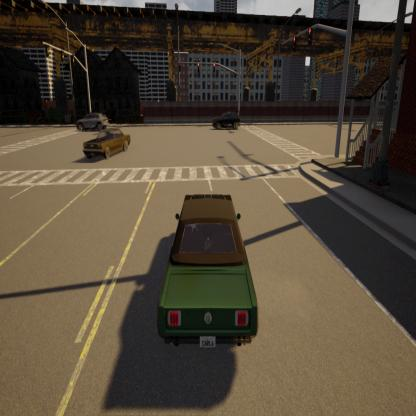Cars: (146, 178, 274, 363), (80, 124, 133, 166), (72, 108, 111, 134), (210, 110, 244, 134)
